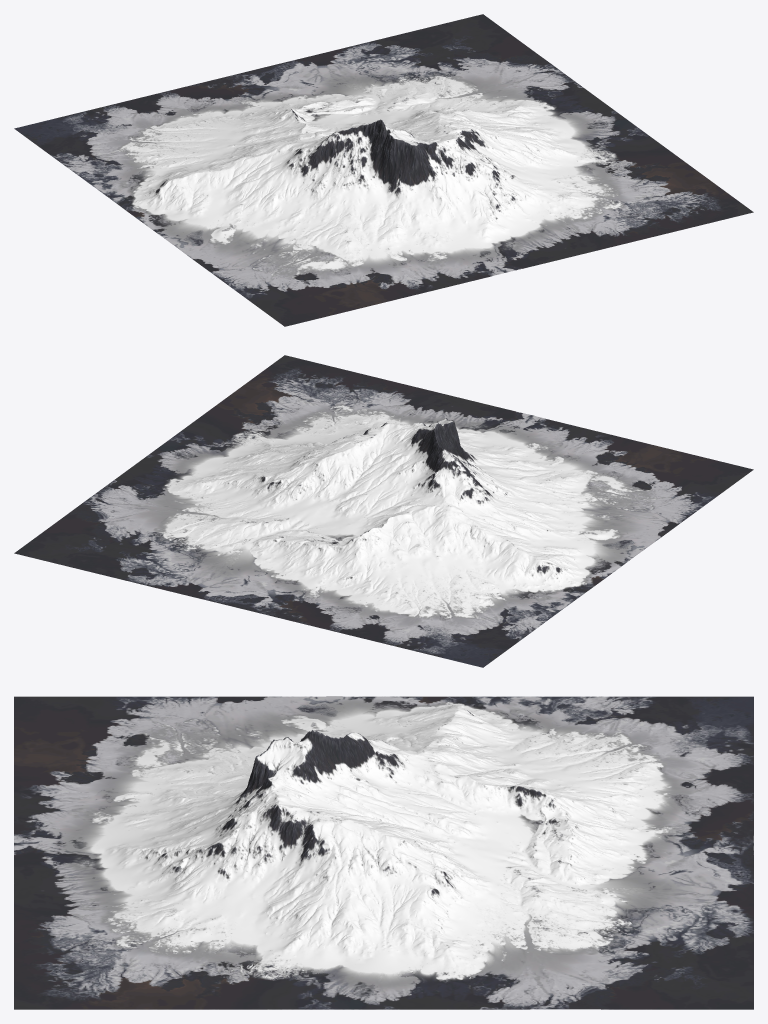
3 views of the same model, one above another, from view 1: azimuth 30°, elevation 25°; view 2: azimuth 150°, elevation 25°; view 3: azimuth 270°, elevation 25° (orthographic). The views are drawn at different scales.
Parts seen in each view (by area): view 1: Snow Mountain Terrain; view 2: Snow Mountain Terrain; view 3: Snow Mountain Terrain.
Boxes of the visible parts, x1,y1,x2,y2 form: Snow Mountain Terrain: [14, 14, 753, 326]; Snow Mountain Terrain: [14, 355, 753, 667]; Snow Mountain Terrain: [14, 696, 753, 1009].
Size of the model in its own units: 1008 by 157 by 1008.
1 material, 1 textured.
